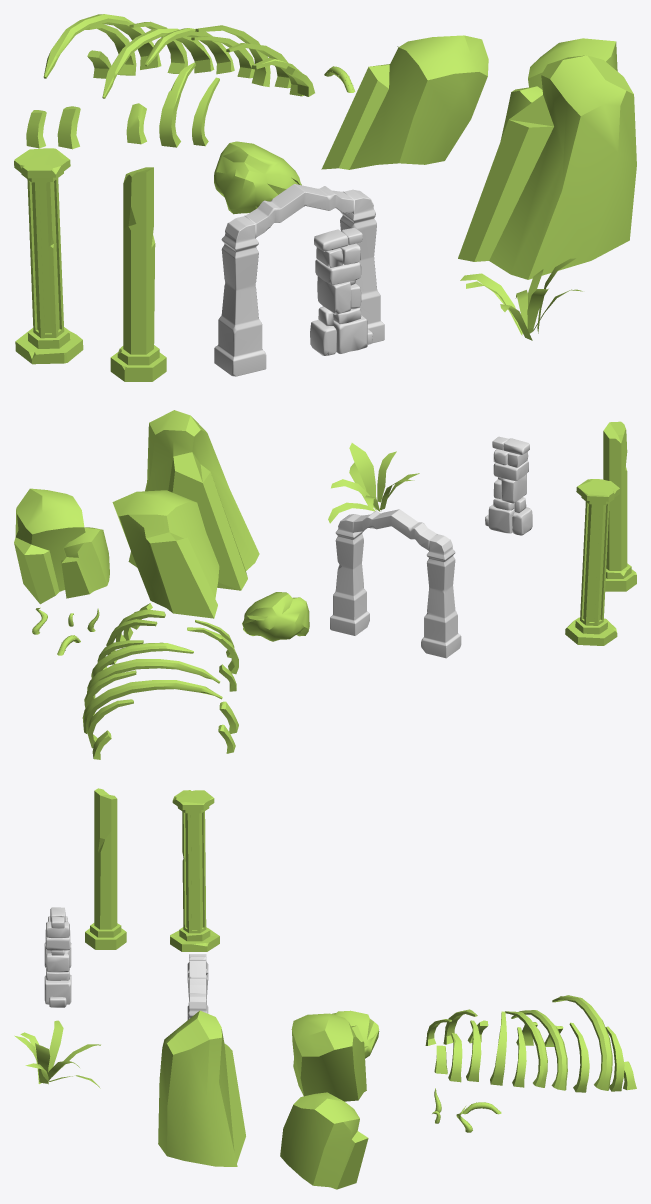
File: stuff_2.fbx
3 views of the same model, one above another, from view 1: azimuth 30°, elevation 25°; view 2: azimuth 150°, elevation 25°; view 3: azimuth 270°, elevation 25° (orthographic). The views are drawn at different scales.
Parts seen in each view (by area): view 1: Cube.080, Cube.074, Cube.055, ARCHH, Cylinder.008, Cylinder.007, Stylized_Stone_Bricks, Mball.066, Cube.065, Plane.023; view 2: Cube.074, Cube.080, ARCHH, Cube.065, Cube.055, Cylinder.008, Cylinder.007, Stylized_Stone_Bricks, Mball.066, Plane.023; view 3: Cube.080, Cube.055, Cube.065, Cube.074, Cylinder.008, Cylinder.007, Stylized_Stone_Bricks, Plane.023, ARCHH, Mball.066.
Part boxes in pixels (x1=…): Cube.080: x1=458, y1=55, x2=636, y2=279; Cube.074: x1=321, y1=35, x2=488, y2=169; Cube.055: x1=26, y1=14, x2=314, y2=149; ARCHH: x1=214, y1=184, x2=384, y2=376; Cylinder.008: x1=14, y1=148, x2=83, y2=364; Cylinder.007: x1=110, y1=167, x2=166, y2=381; Stylized_Stone_Bricks: x1=310, y1=227, x2=372, y2=355; Mball.066: x1=214, y1=141, x2=301, y2=214; Cube.065: x1=500, y1=38, x2=617, y2=140; Plane.023: x1=460, y1=258, x2=582, y2=340; Cube.074: x1=112, y1=490, x2=219, y2=618; Cube.080: x1=128, y1=410, x2=259, y2=590; ARCHH: x1=330, y1=509, x2=461, y2=658; Cube.065: x1=14, y1=488, x2=109, y2=604; Cube.055: x1=82, y1=603, x2=238, y2=759; Cylinder.008: x1=565, y1=479, x2=619, y2=645; Cylinder.007: x1=603, y1=421, x2=636, y2=591; Stylized_Stone_Bricks: x1=485, y1=436, x2=532, y2=535; Mball.066: x1=242, y1=592, x2=309, y2=641; Plane.023: x1=328, y1=443, x2=419, y2=523; Cube.080: x1=158, y1=1010, x2=245, y2=1166; Cube.055: x1=425, y1=995, x2=636, y2=1092; Cube.065: x1=280, y1=1092, x2=368, y2=1189; Cube.074: x1=291, y1=1013, x2=366, y2=1101; Cylinder.008: x1=170, y1=790, x2=219, y2=951; Cylinder.007: x1=85, y1=788, x2=126, y2=949; Stylized_Stone_Bricks: x1=44, y1=907, x2=71, y2=1007; Plane.023: x1=14, y1=1020, x2=100, y2=1088; ARCHH: x1=187, y1=954, x2=208, y2=1020; Mball.066: x1=332, y1=1010, x2=379, y2=1058.
Size of the model in its own units: 58.22 by 23.22 by 62.05.
